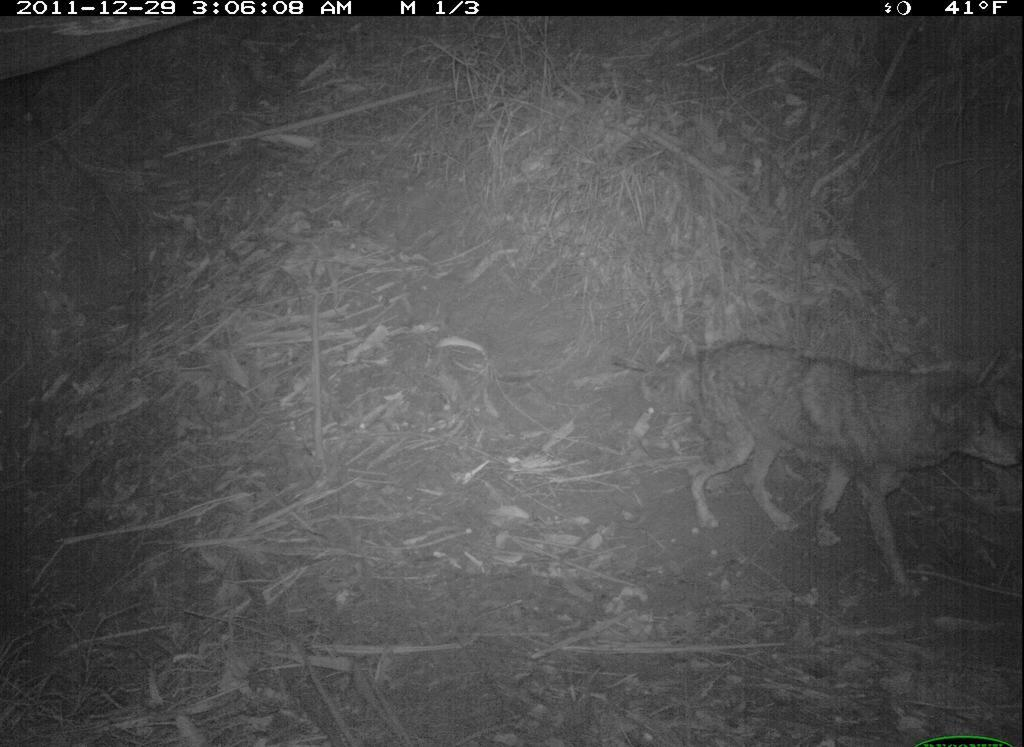coyote: (630, 334, 1024, 605)
